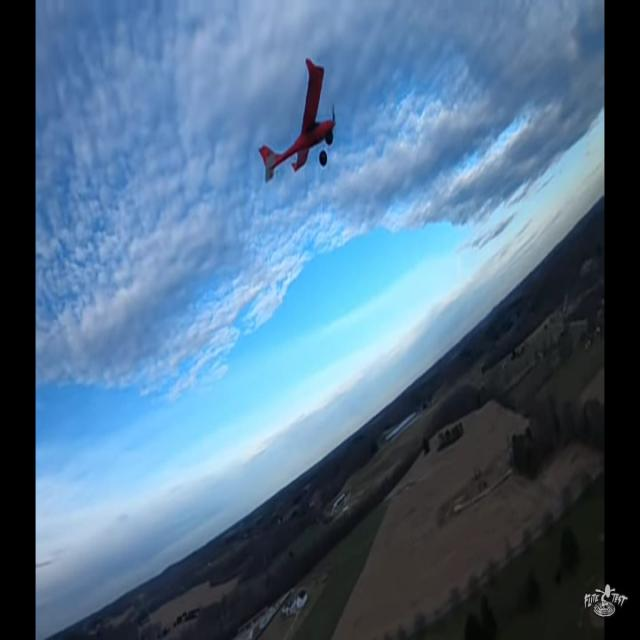iha: (291, 26, 304, 86)
